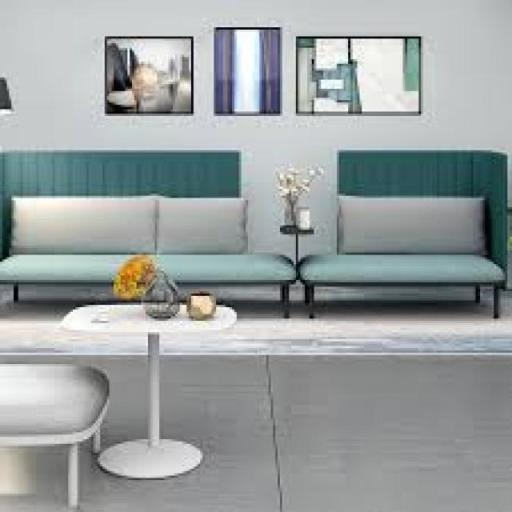sofa: (5, 172, 305, 338), (312, 183, 512, 316)
